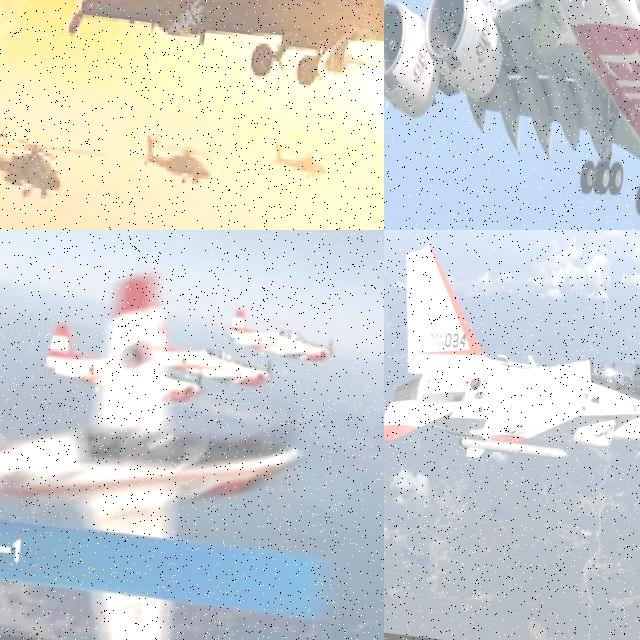A380: (384, 0, 640, 230)
Apache: (0, 0, 384, 108), (0, 113, 112, 212), (132, 130, 224, 193), (269, 134, 333, 184)
KT-1: (0, 243, 323, 640), (384, 239, 640, 516), (34, 318, 213, 416), (126, 322, 275, 392), (220, 309, 342, 376)
